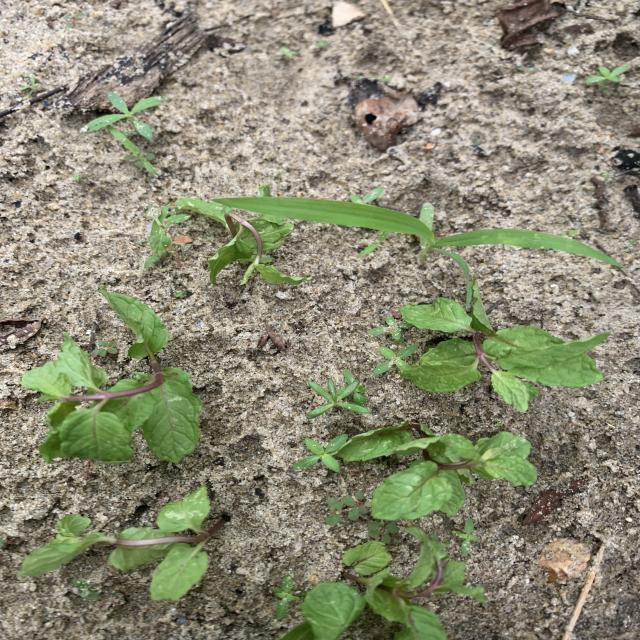crop: (22, 293, 201, 463), (400, 281, 609, 411), (18, 486, 226, 601), (282, 526, 487, 640), (337, 423, 537, 521), (175, 197, 310, 285)
weed: (216, 197, 623, 267), (80, 92, 164, 139), (307, 369, 370, 419), (144, 203, 190, 269), (109, 127, 160, 177), (294, 435, 349, 472), (440, 250, 470, 309), (325, 491, 370, 526), (372, 344, 418, 375), (272, 574, 302, 620), (368, 315, 411, 344), (586, 64, 630, 87), (368, 518, 402, 544), (453, 520, 476, 555), (359, 231, 389, 257), (350, 186, 385, 205), (91, 341, 119, 356), (22, 77, 41, 96), (276, 46, 297, 61), (316, 41, 329, 50), (174, 290, 186, 299)
